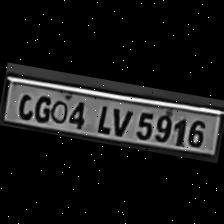0: (48, 92, 70, 124)
1: (168, 112, 188, 144)
4: (62, 94, 90, 128)
5: (129, 106, 154, 140)
6: (182, 113, 208, 146)
9: (150, 108, 174, 142)
C: (12, 86, 37, 118)
G: (31, 90, 56, 124)
L: (90, 100, 114, 134)
V: (106, 103, 134, 136)
